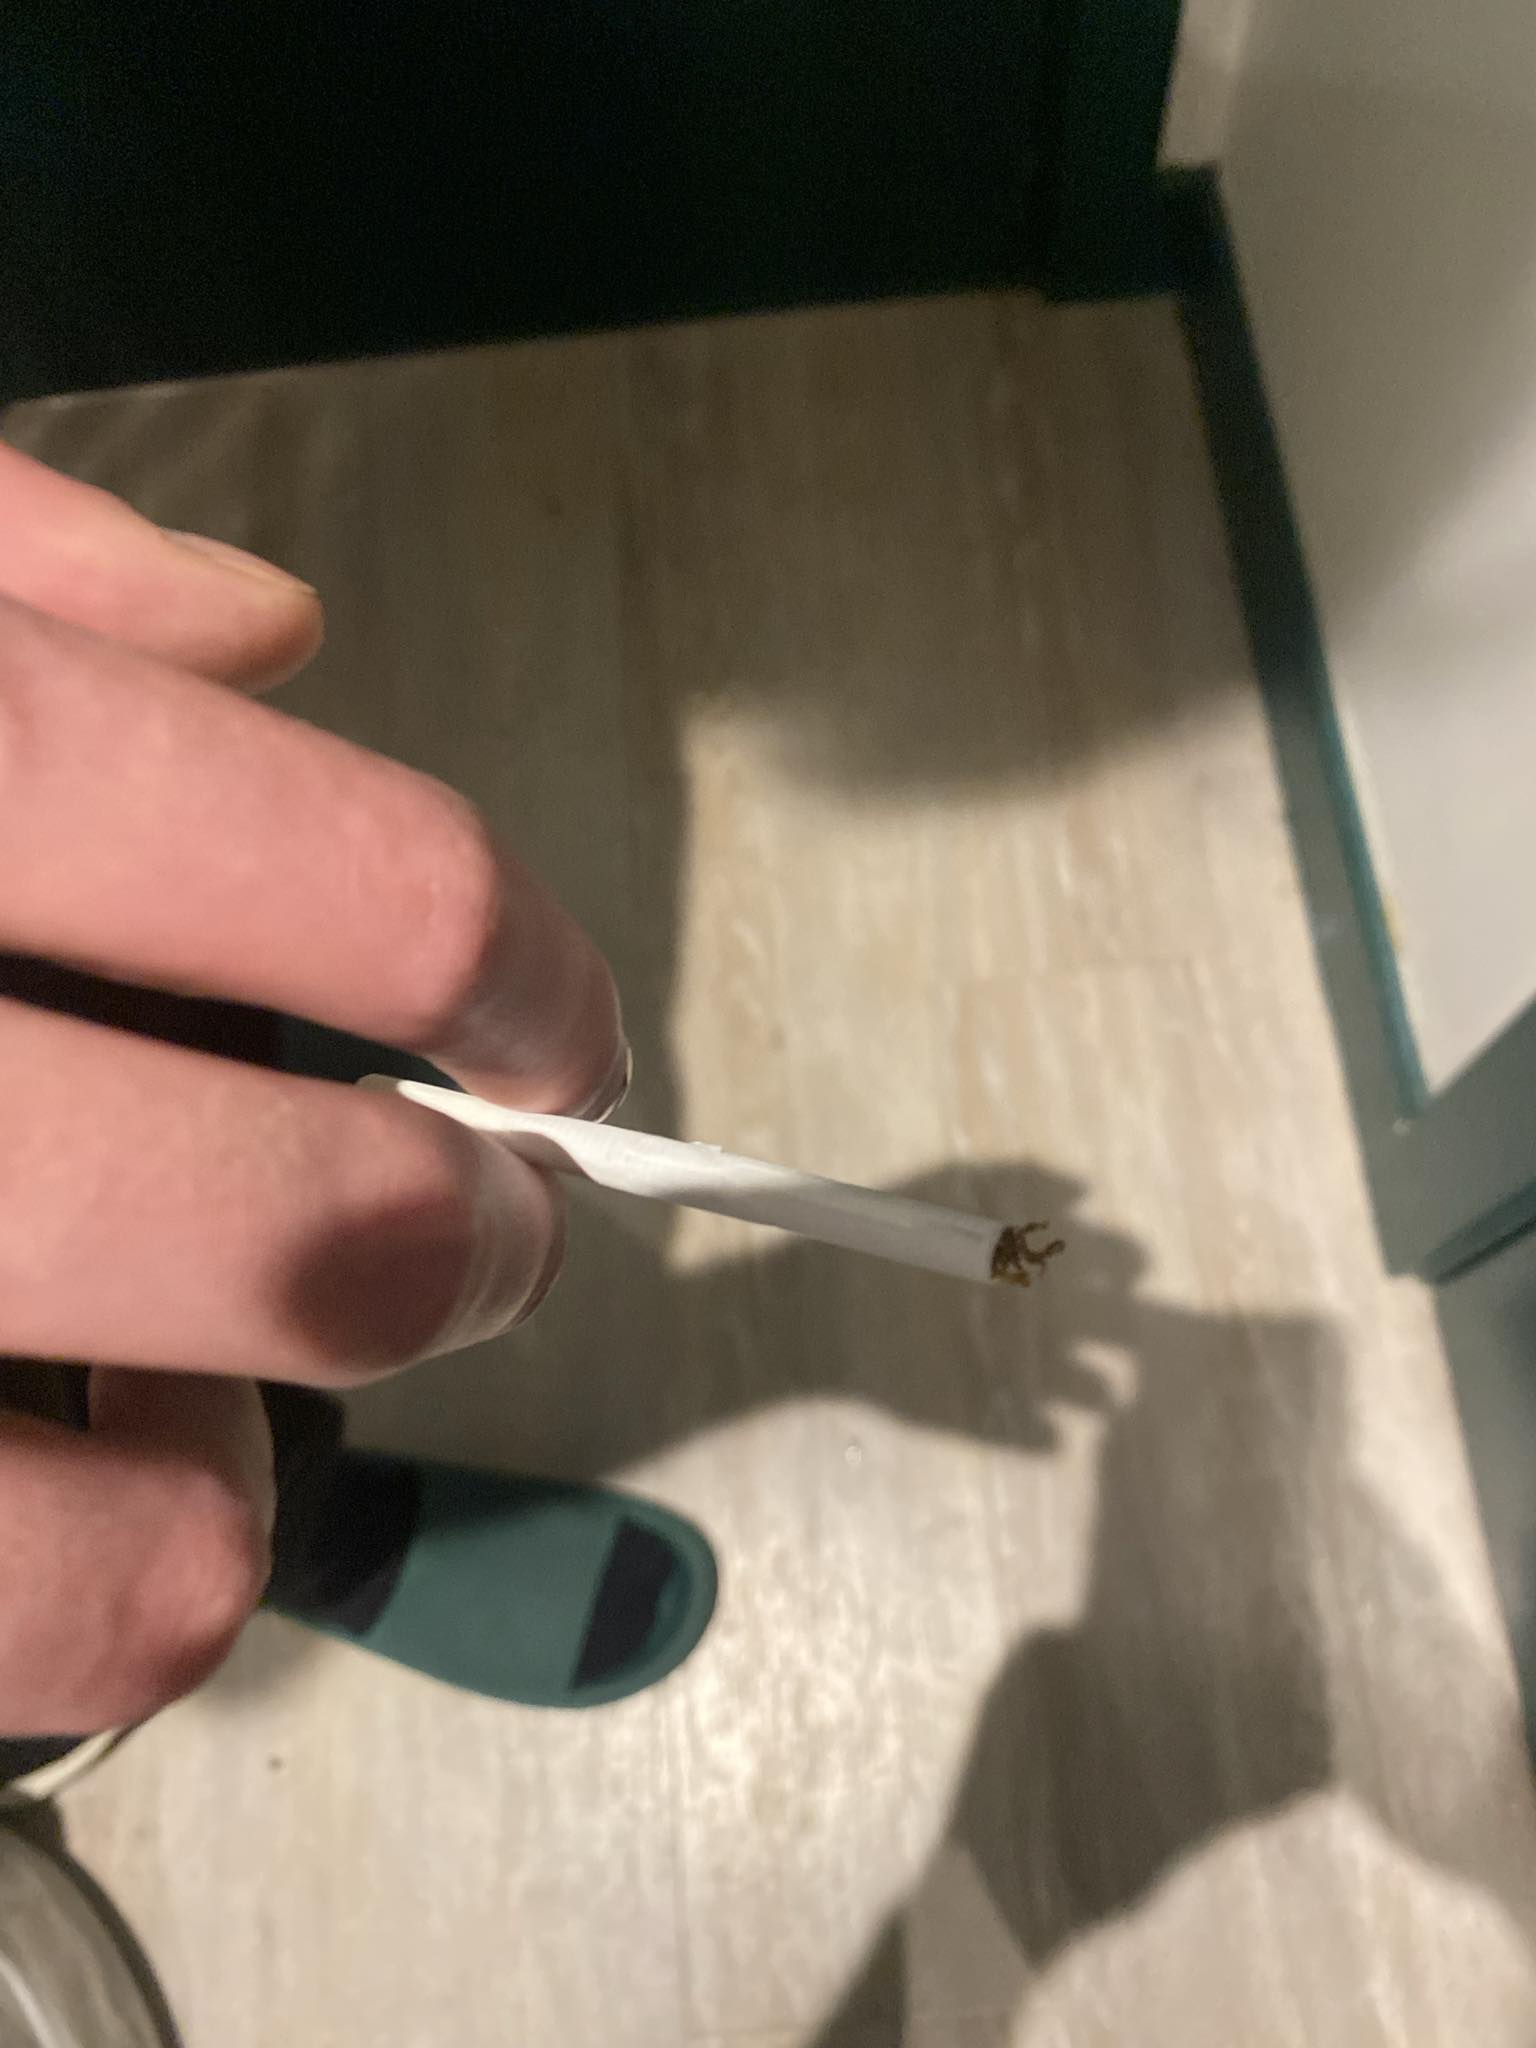Cigarette: (353, 1072, 1066, 1293)
